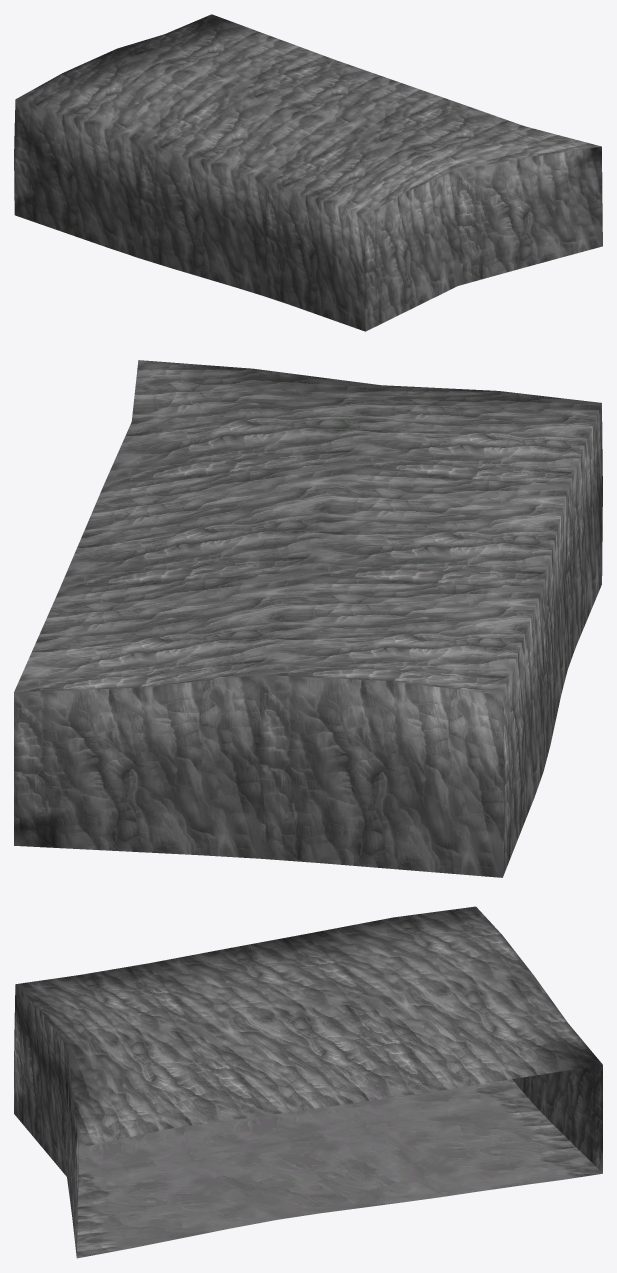
Rendered from SWORDLIGHT20_PS-AREA04_02.fbx.
3 renders of one model, top to bottom at view 1: azimuth 30°, elevation 25°; view 2: azimuth 150°, elevation 25°; view 3: azimuth 270°, elevation 25°, orthographic. The views are drawn at different scales.
Parts seen in each view (by area): view 1: SWORDLIGHT20_PS-AREA04_02; view 2: SWORDLIGHT20_PS-AREA04_02; view 3: SWORDLIGHT20_PS-AREA04_02.
Boxes of the visible parts, <box> form: SWORDLIGHT20_PS-AREA04_02: <box>14,14,602,331</box>; SWORDLIGHT20_PS-AREA04_02: <box>14,360,602,877</box>; SWORDLIGHT20_PS-AREA04_02: <box>14,906,602,1258</box>.
Size of the model in its own units: 162598 by 45106 by 181033.
4 materials, 4 textured.
